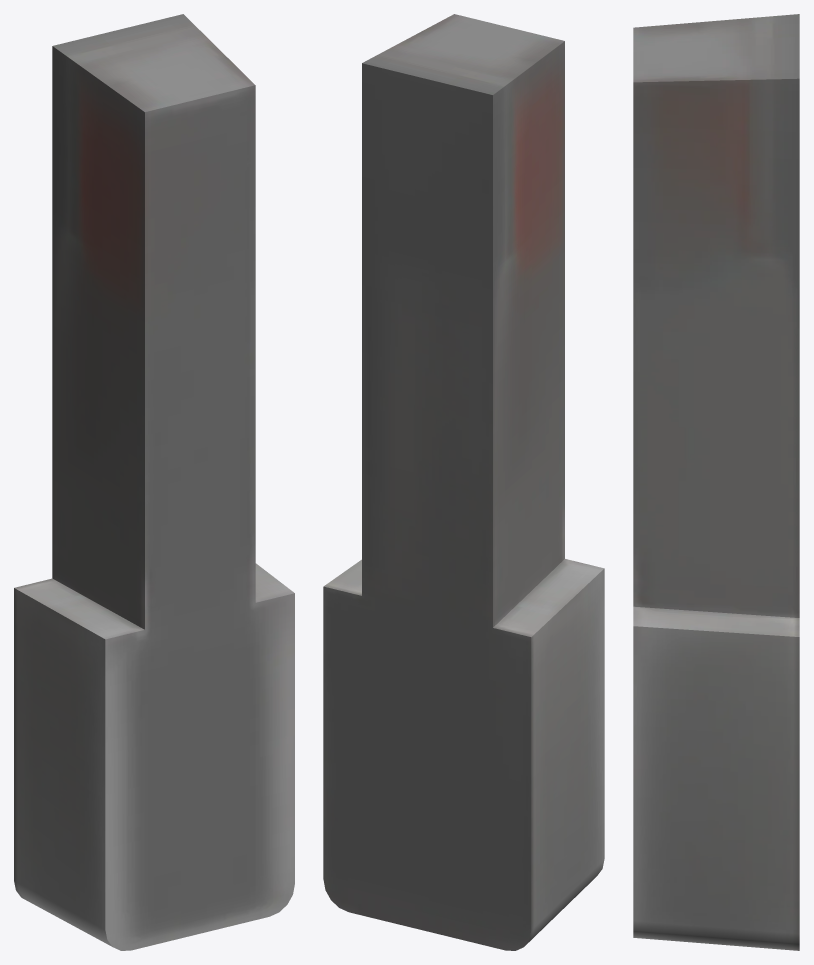
File: white_key_12_part__white_key.glb
3 views of the same model, side by side, from view 1: azimuth 30°, elevation 25°; view 2: azimuth 150°, elevation 25°; view 3: azimuth 270°, elevation 25° (orthographic).
Parts seen in each view (by area): view 1: world; view 2: world; view 3: world.
Boxes of the visible parts, bbox=[...] form: world: bbox=[14, 14, 294, 950]; world: bbox=[323, 14, 604, 950]; world: bbox=[633, 14, 799, 950].
Bounding box in the file's own units: 0.0204 × 0.08 × 0.014.
Materials: 1 (1 with a texture image).
